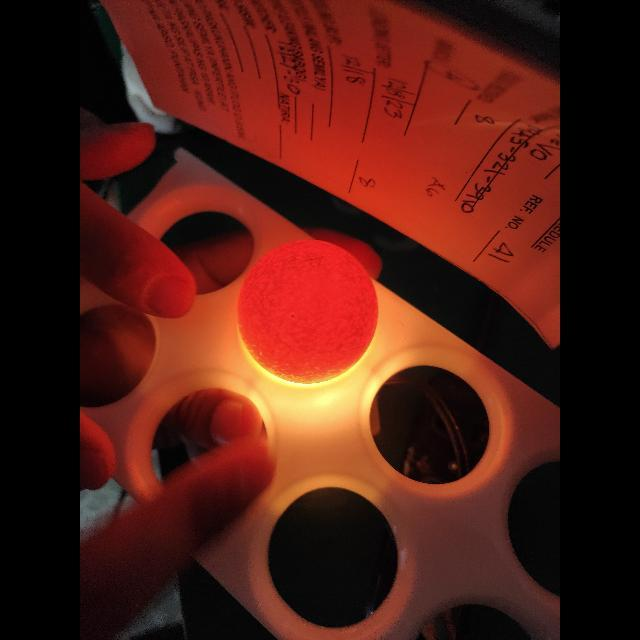A - Good: (226, 234, 386, 388)
